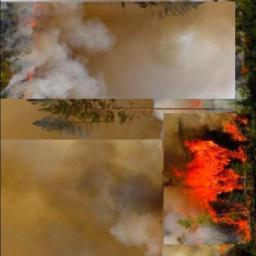Heavy smoke: (1, 1, 235, 99), (5, 141, 162, 256)
Large fire: (164, 113, 256, 248)
